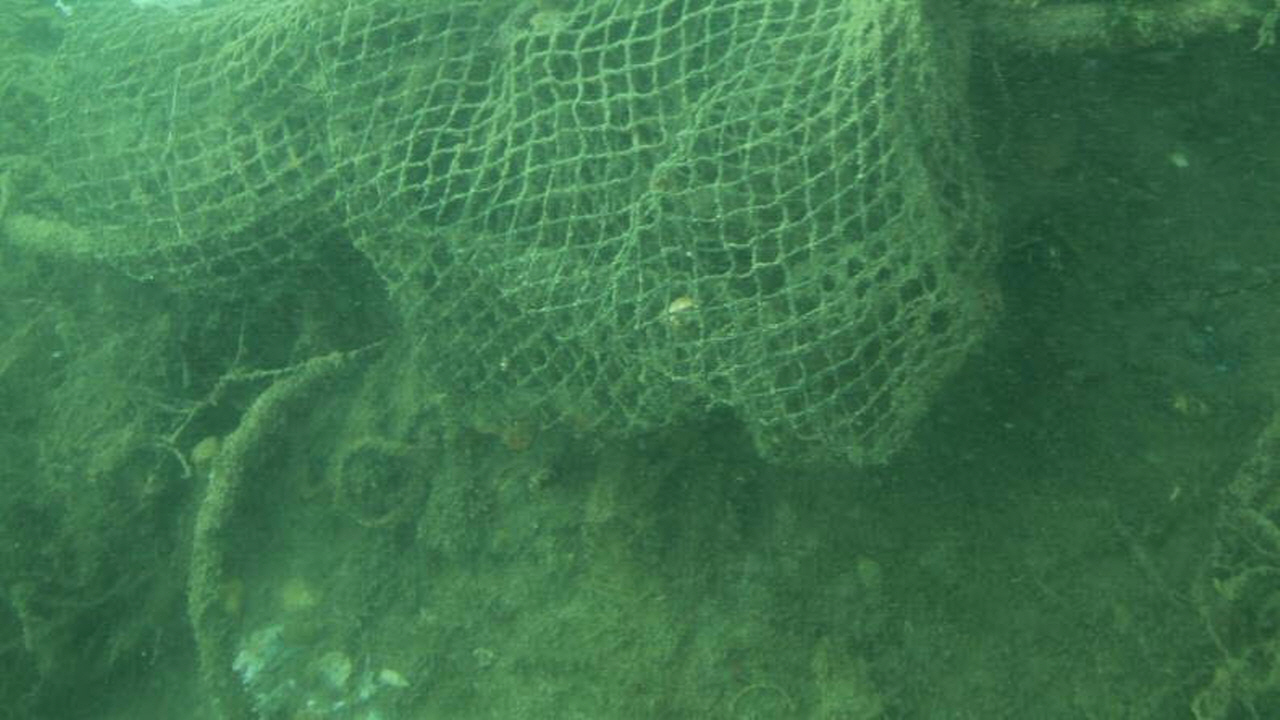fish net: (0, 0, 998, 469)
